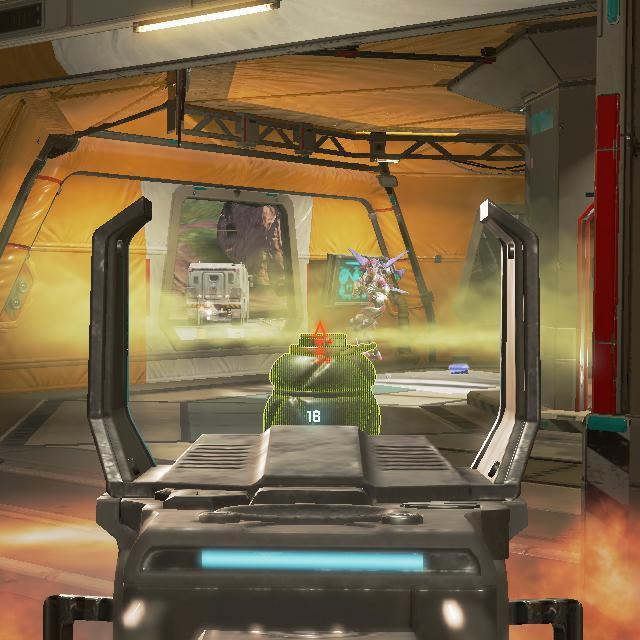avatar: (347, 248, 410, 362)
